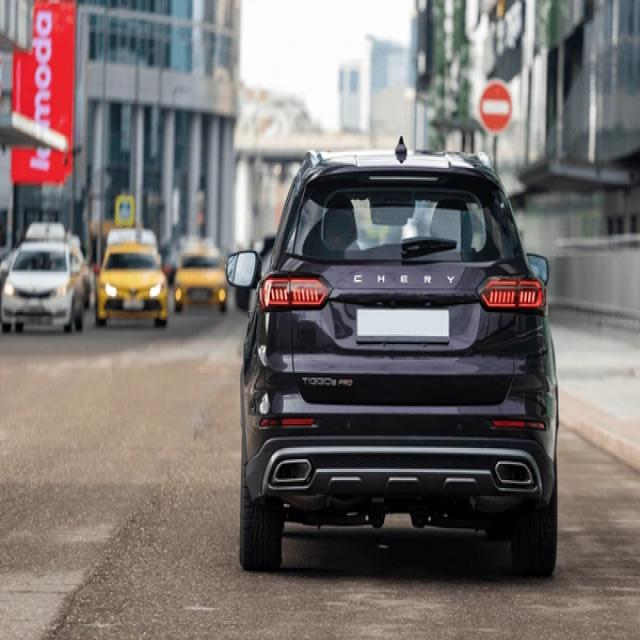cherry: (351, 272, 461, 286)
